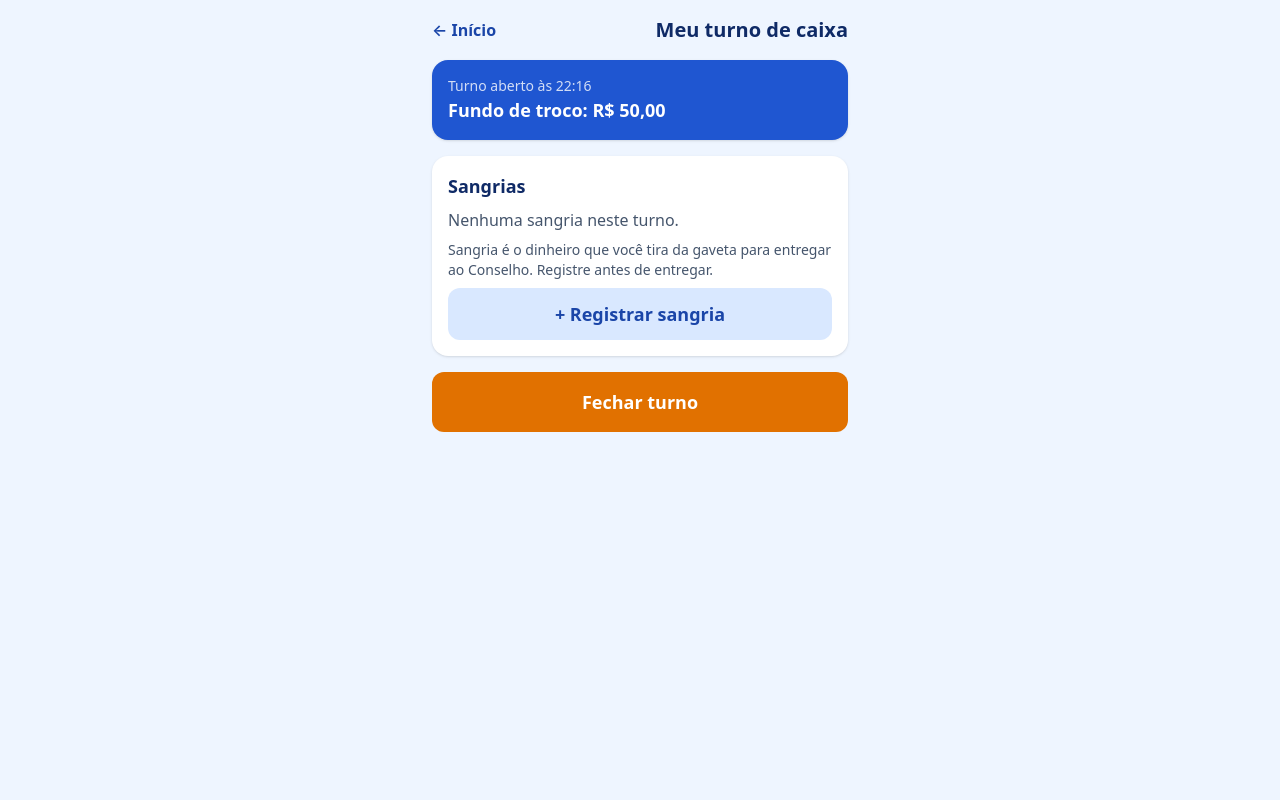
Test: turno do caixa › sangria com código do Conselho: chama registrar_sangria_codigo; código errado mostra tentativas
The image size is (1280, 800).
Expected: the text "Fundo de troco: R$ 50,00" is shown, [448,98,666,122]
Click the button "+ Registrar sangria": (640, 314) [448,288,832,340]
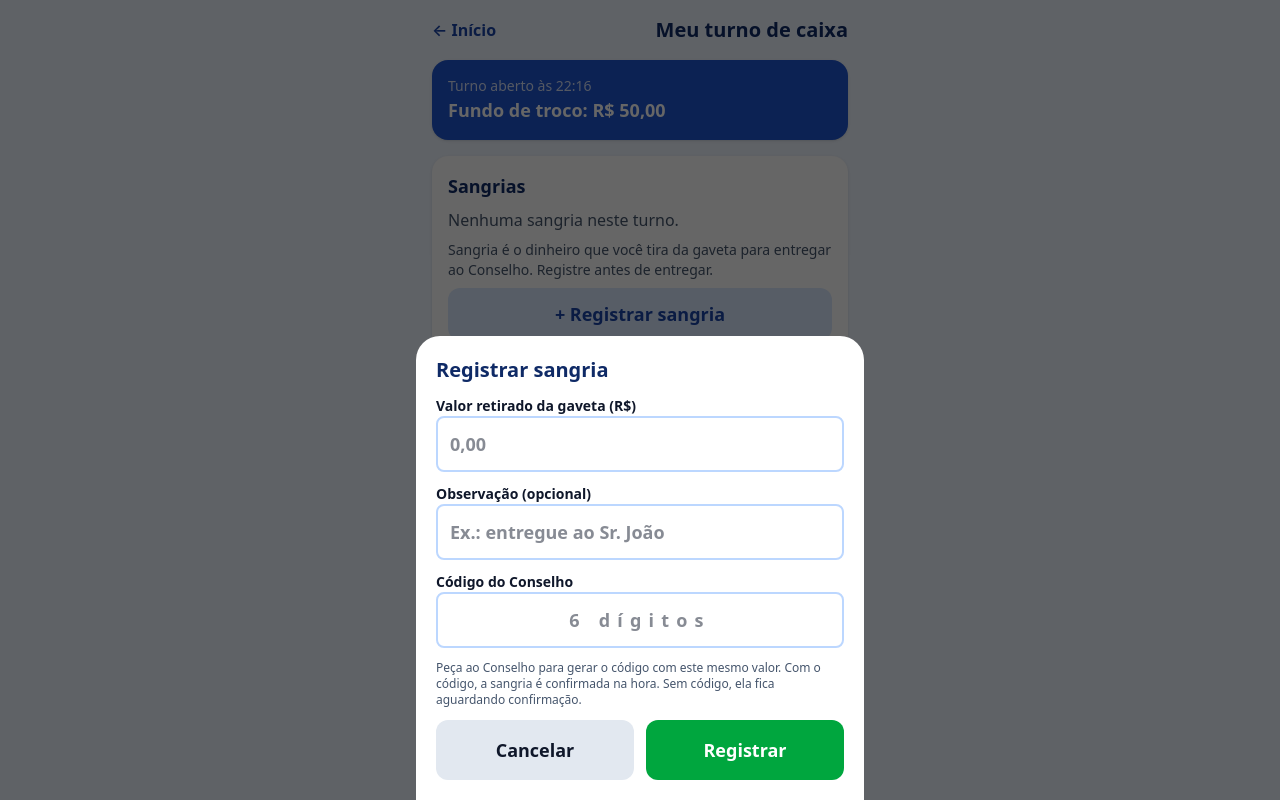
In the field named "Valor da sangria": (640, 444) [436,416,844,472], type "50"
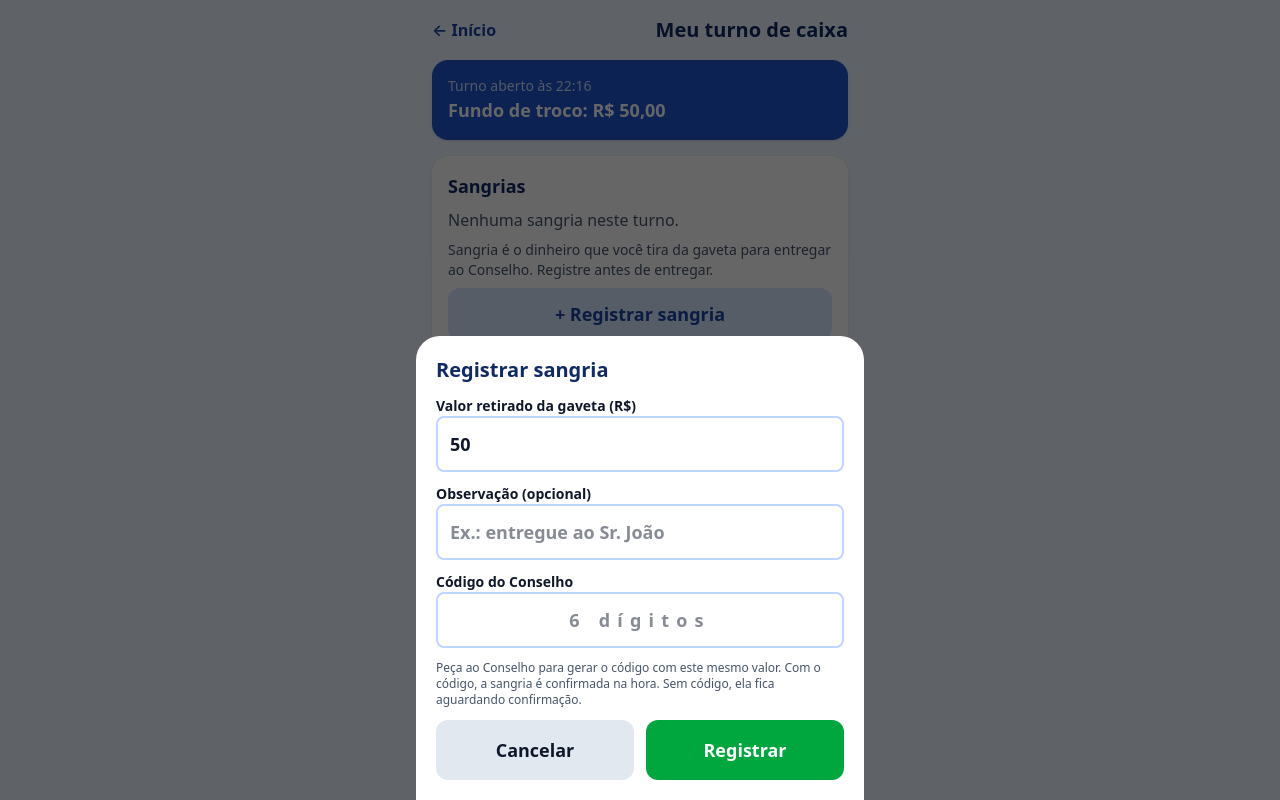
In the field labelled "Código do Conselho": (640, 620) [436,592,844,648], type "123456"
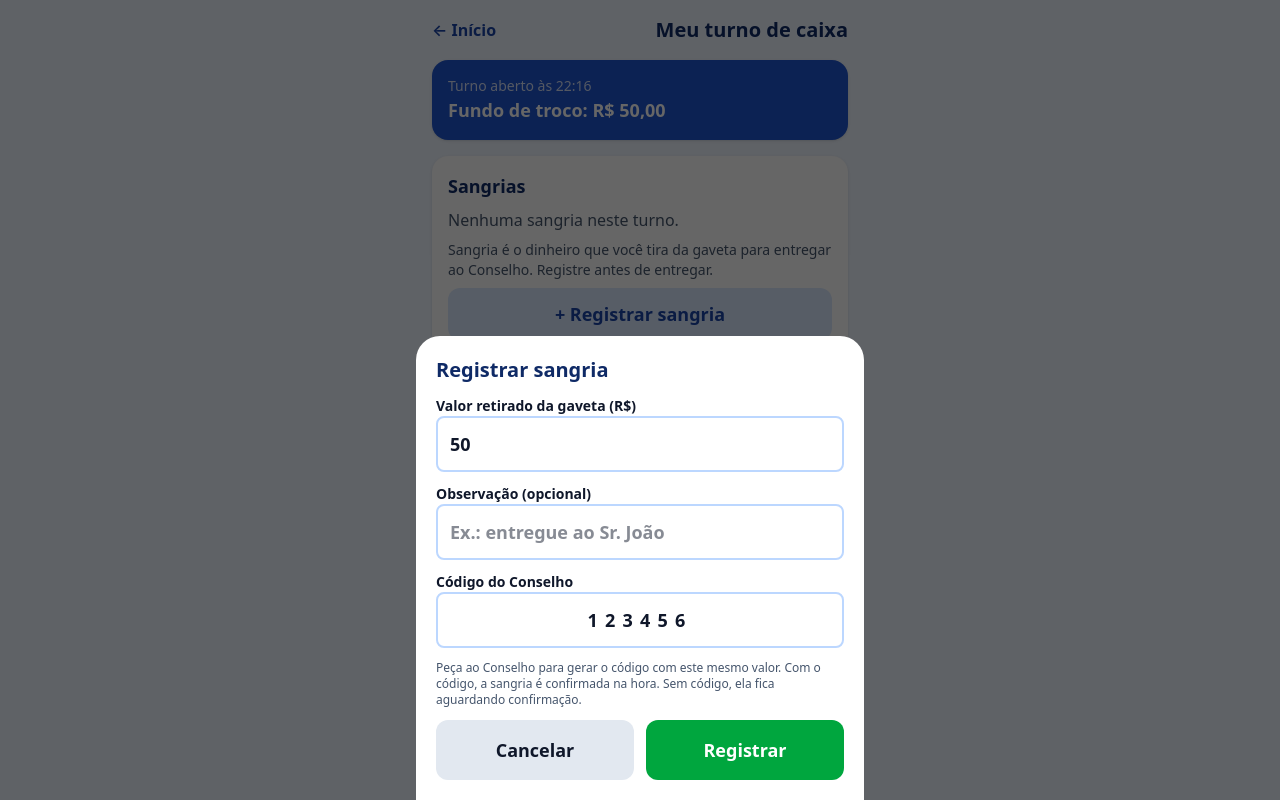
Click the button "Registrar": (745, 750) [646,720,844,780]
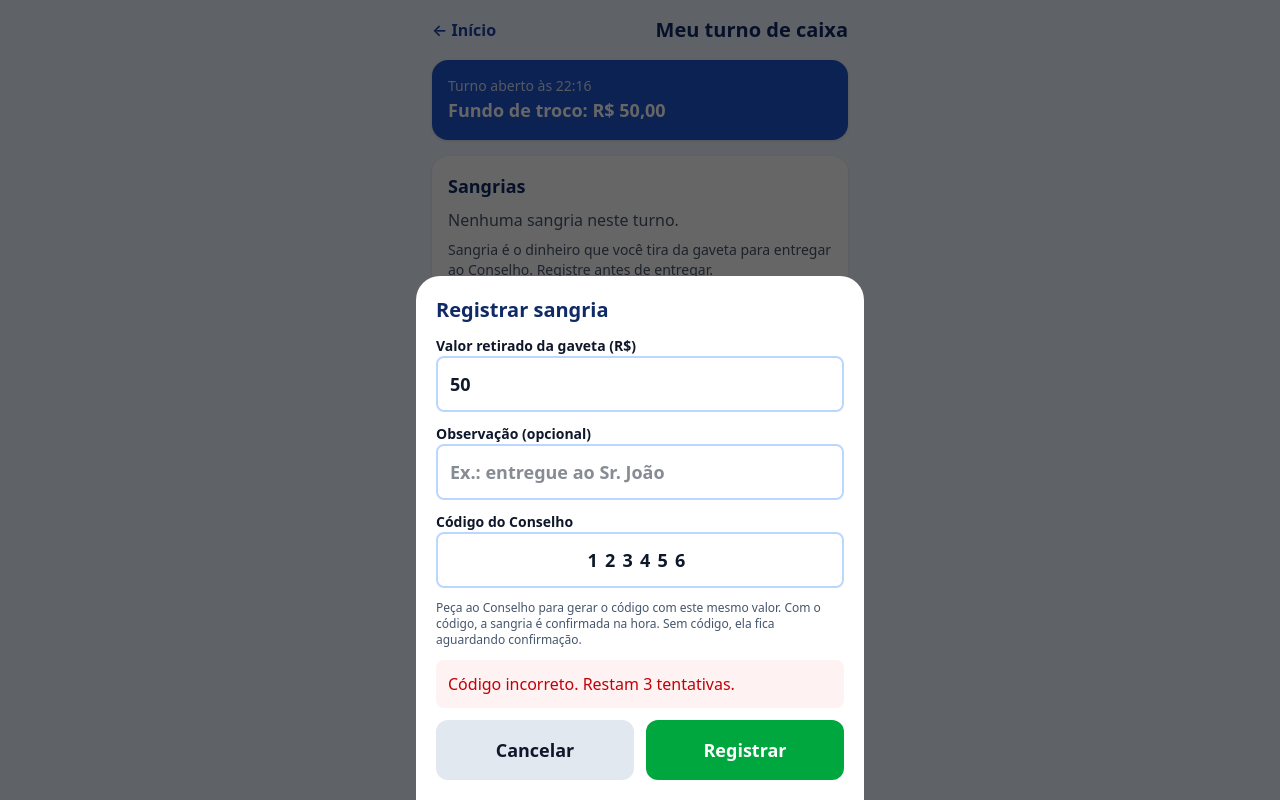
Result: the message shows "Restam 3 tentativas" at [448,673,735,695]
